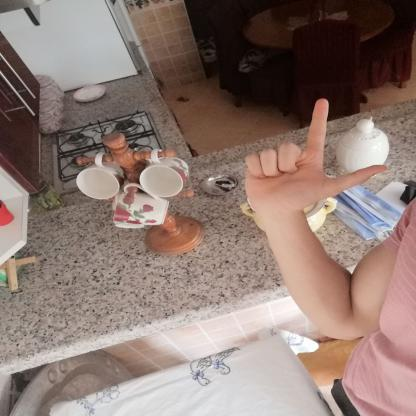LAAM: (235, 94, 395, 222)
